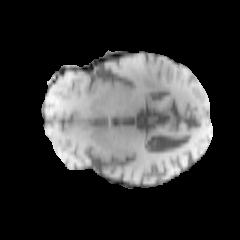glioma: (118, 62, 172, 95)
